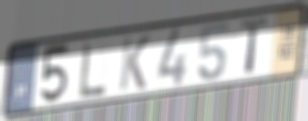4: (156, 26, 190, 90)
5: (38, 41, 73, 106), (196, 20, 230, 83)
K: (117, 34, 152, 93)
L: (79, 39, 108, 101)
T: (240, 16, 271, 77)
